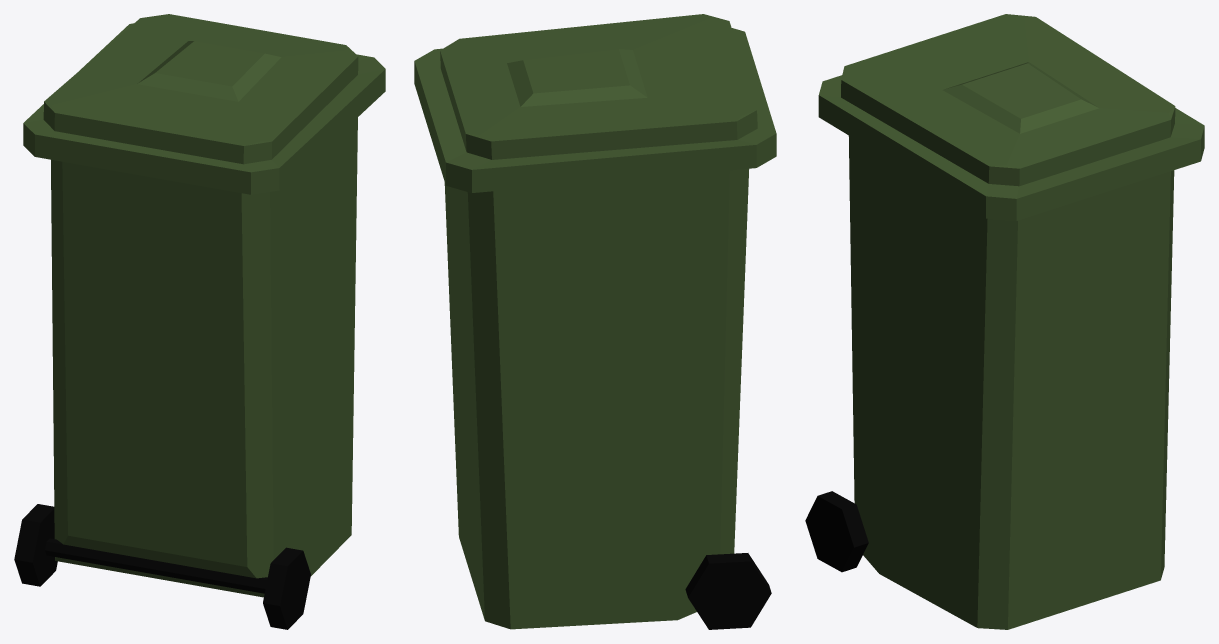
Rendered from Building Trashcan.fbx.
3 renders of one model, left to right at view 1: azimuth 30°, elevation 25°; view 2: azimuth 150°, elevation 25°; view 3: azimuth 270°, elevation 25°, orthographic. The views are drawn at different scales.
Parts seen in each view (by area): view 1: Building Trashcan; view 2: Building Trashcan; view 3: Building Trashcan.
Part boxes in pixels (x1,y1,x2,y2): Building Trashcan: (14,14,385,629); Building Trashcan: (414,14,776,629); Building Trashcan: (805,14,1204,629).
Bounding box in the file's own units: 145 × 143 × 191.
